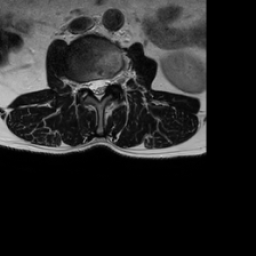CCS_normal: (95, 71, 102, 107)
LFS_normal: (109, 65, 117, 91)
LLS_normal: (102, 70, 109, 95)
RFS_normal: (79, 73, 87, 93)
RLS_normal: (87, 71, 95, 99)
